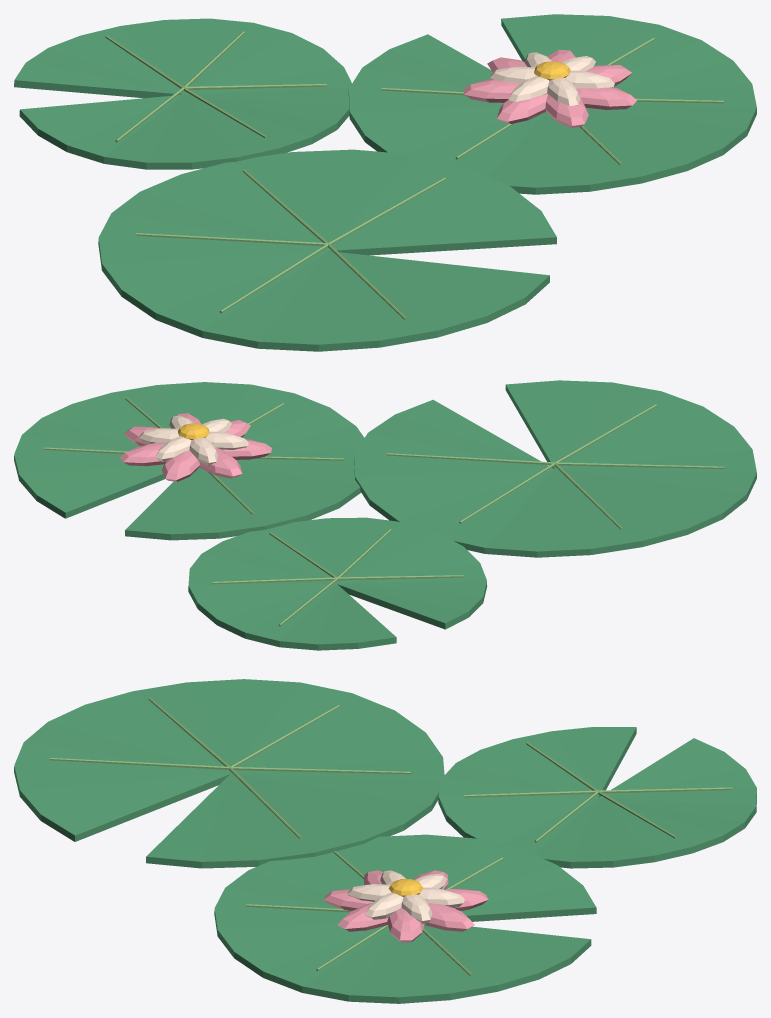
The model's file is lake_lilies.glb.
The picture shows the model from 3 angles, top to bottom: view 1: azimuth 30°, elevation 25°; view 2: azimuth 150°, elevation 25°; view 3: azimuth 270°, elevation 25°; orthographic projection. The views are drawn at different scales.
Parts seen in each view (by area): view 1: lake_lilies; view 2: lake_lilies; view 3: lake_lilies.
Boxes of the visible parts, box(x1,y1,x2,y2) form: lake_lilies: box(14, 14, 756, 351); lake_lilies: box(14, 380, 756, 650); lake_lilies: box(14, 679, 756, 1003).
Bounding box in the file's own units: 0.9396 × 0.061 × 0.9286.
